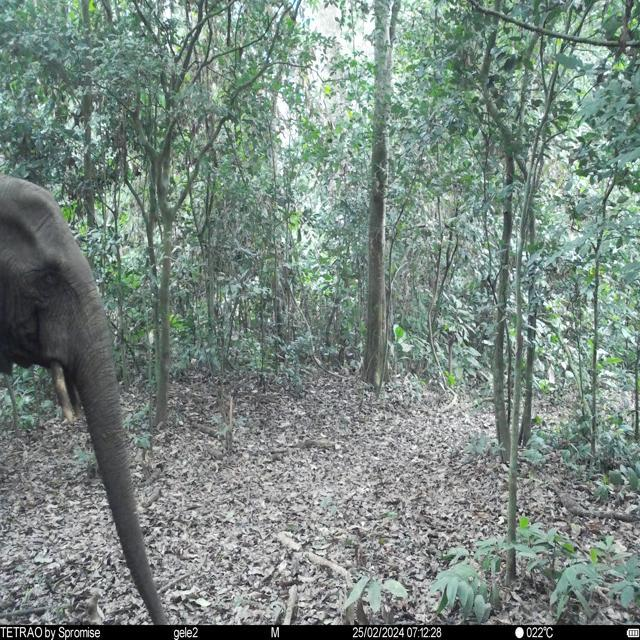elephant: (0, 164, 177, 625)
tusk: (48, 360, 77, 427)
